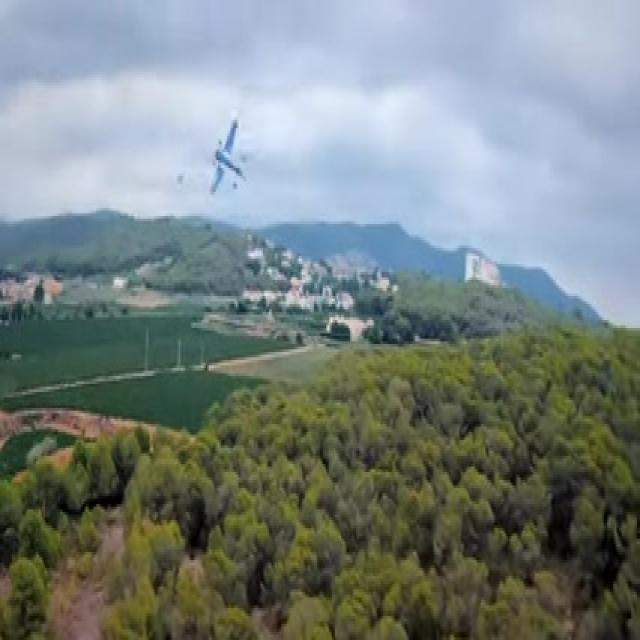iha: (209, 148, 248, 165)
